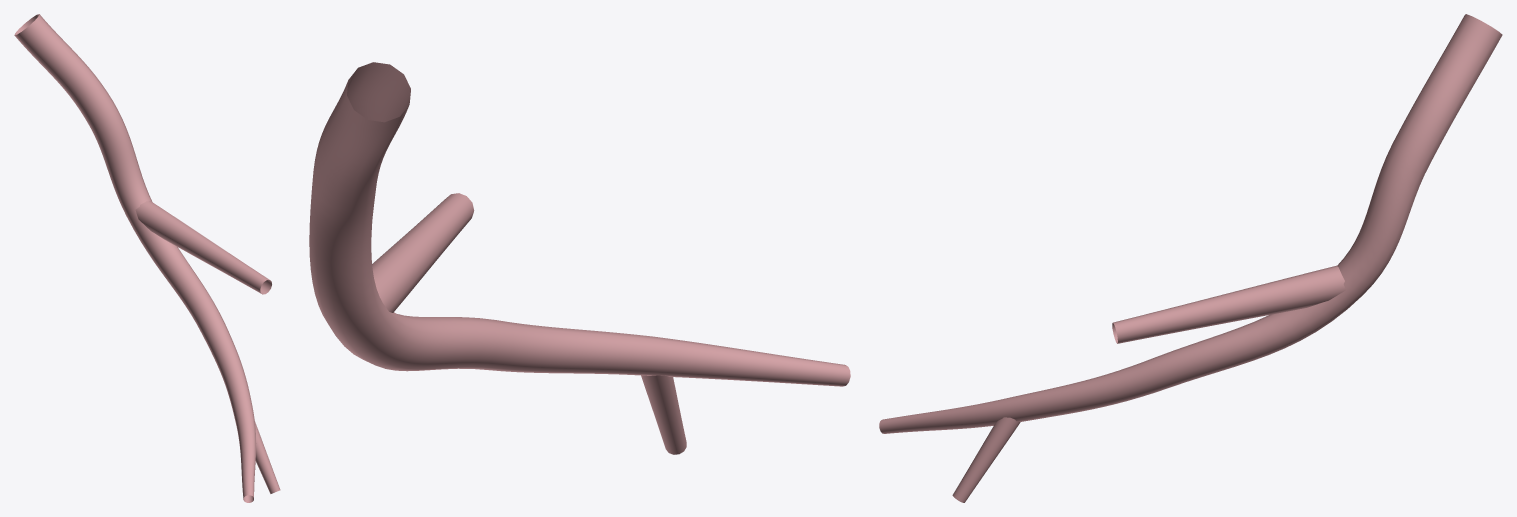
3 views of the same model, side by side, from view 1: azimuth 30°, elevation 25°; view 2: azimuth 150°, elevation 25°; view 3: azimuth 270°, elevation 25° (orthographic). The views are drawn at different scales.
Visible parts, largest first — view 1: ZA_db18451cdc93eeab; view 2: ZA_db18451cdc93eeab; view 3: ZA_db18451cdc93eeab.
Boxes of the visible parts, x1,y1,x2,y2 form: ZA_db18451cdc93eeab: (14, 14, 280, 502); ZA_db18451cdc93eeab: (309, 62, 850, 454); ZA_db18451cdc93eeab: (879, 14, 1502, 502).
Bounding box in the file's own units: 0.025 × 0.0696 × 0.0857.
